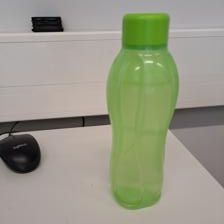bottle: (102, 10, 183, 212)
